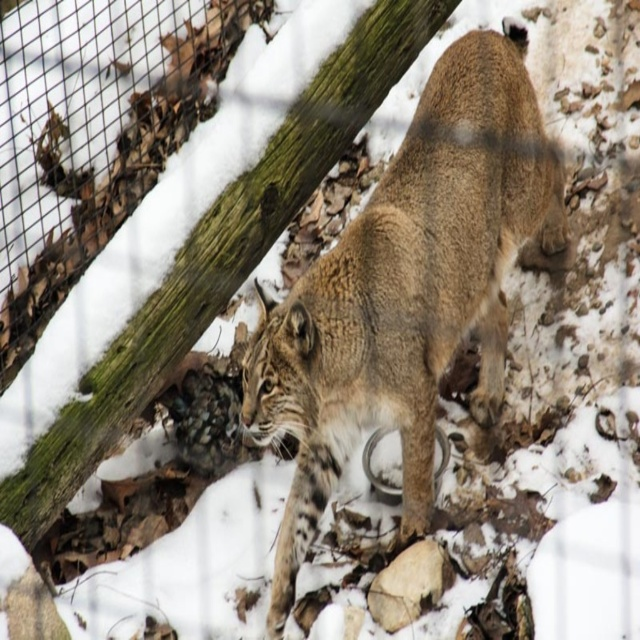Lynx: (240, 28, 571, 640)
